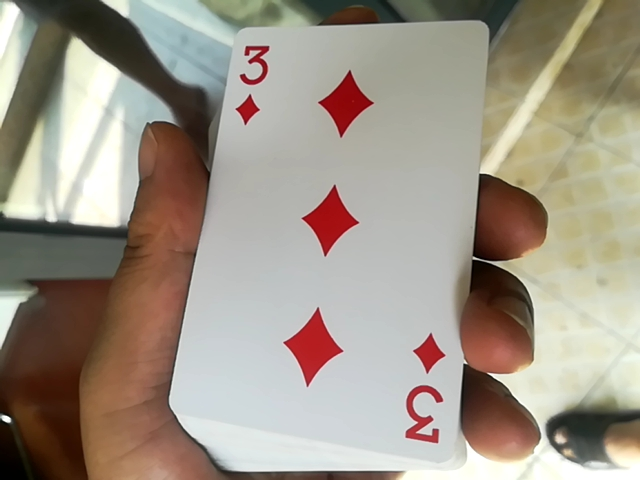fk 3: (170, 24, 478, 462)
